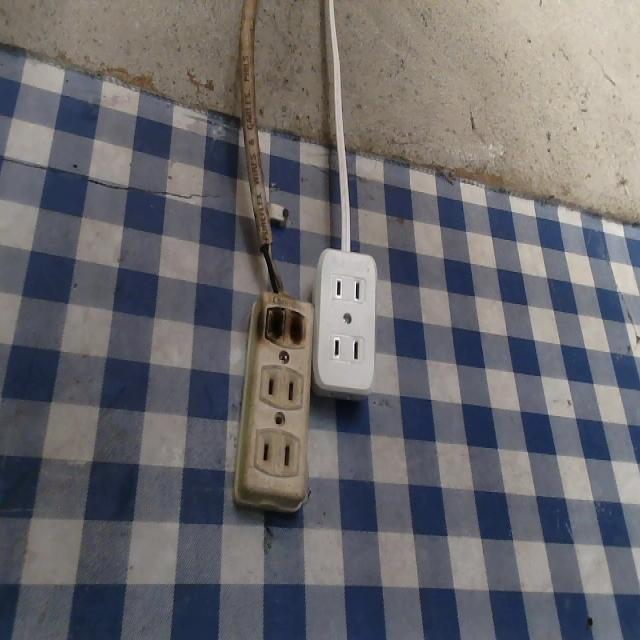-: (254, 295, 320, 352)
